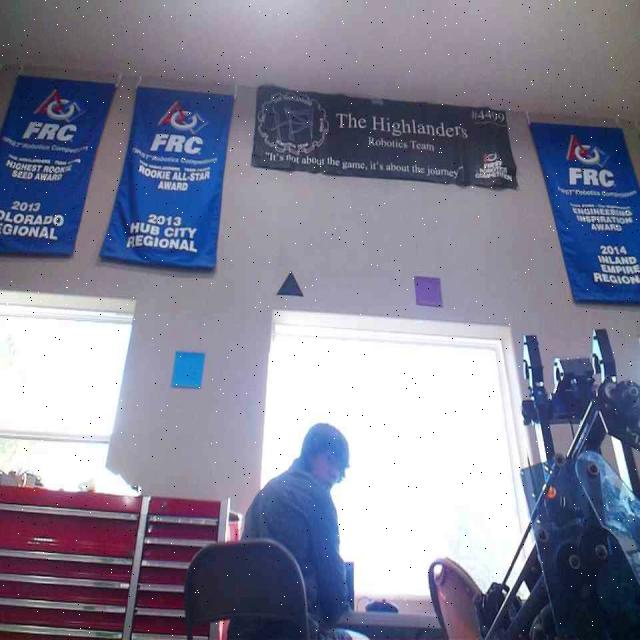square_blue: (169, 350, 206, 388)
square_purple: (413, 274, 443, 306)
triangle_black: (277, 270, 303, 295)
